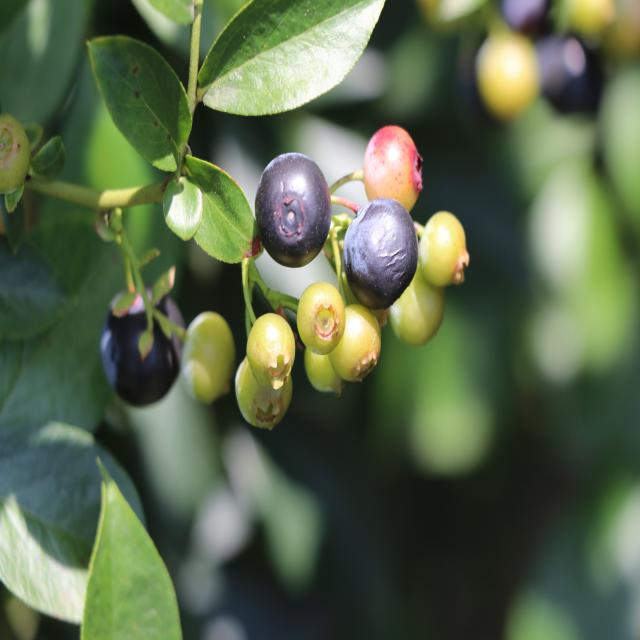blueberry: (98, 281, 190, 412), (341, 194, 422, 314), (257, 150, 328, 269)
blueberry-halfripe: (363, 121, 423, 211)
blueberry-unripe: (185, 312, 238, 399), (233, 353, 296, 425), (388, 272, 449, 346), (327, 300, 382, 382), (293, 277, 346, 352), (421, 208, 469, 288), (246, 311, 298, 379), (0, 113, 28, 197), (304, 348, 346, 402)
